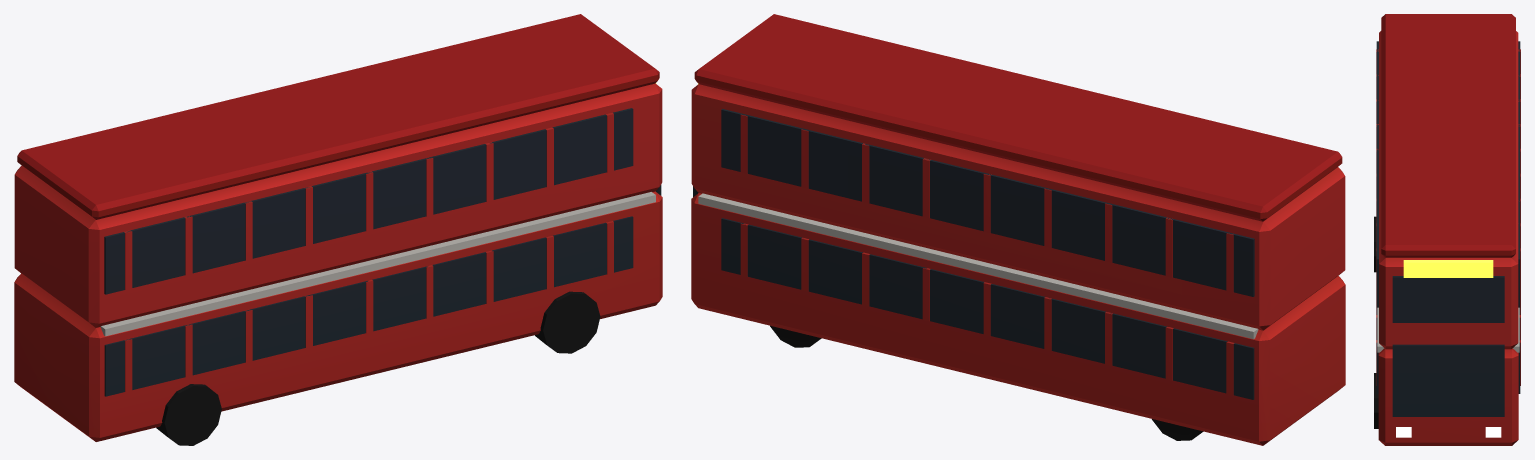
Rendered from ld_bus-CWtvObnO.glb.
3 views of the same model, side by side, from view 1: azimuth 30°, elevation 25°; view 2: azimuth 150°, elevation 25°; view 3: azimuth 270°, elevation 25° (orthographic). The views are drawn at different scales.
Bounding box in the file's own units: 10.08 × 4.3 × 2.62.
